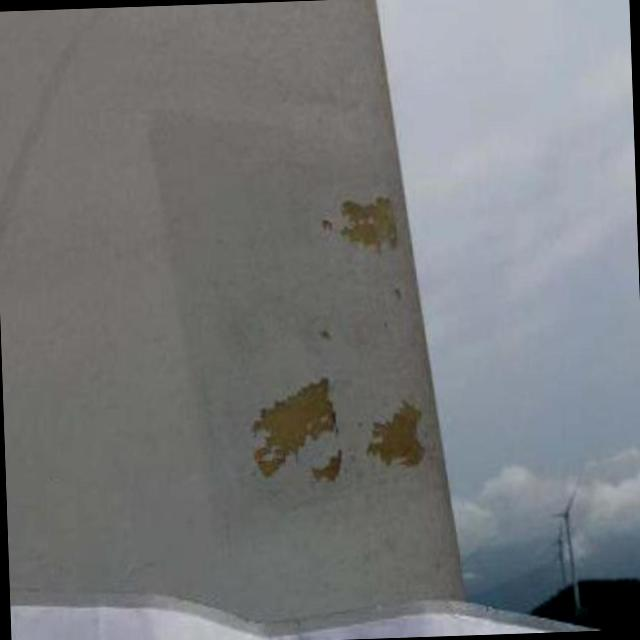surface_peeling: (246, 376, 344, 494), (328, 188, 400, 254), (364, 398, 428, 468)
